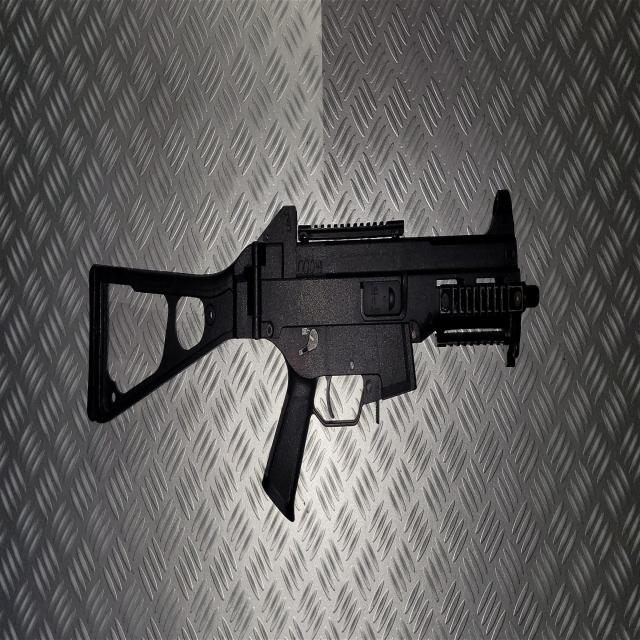SMG: (87, 194, 540, 520)
